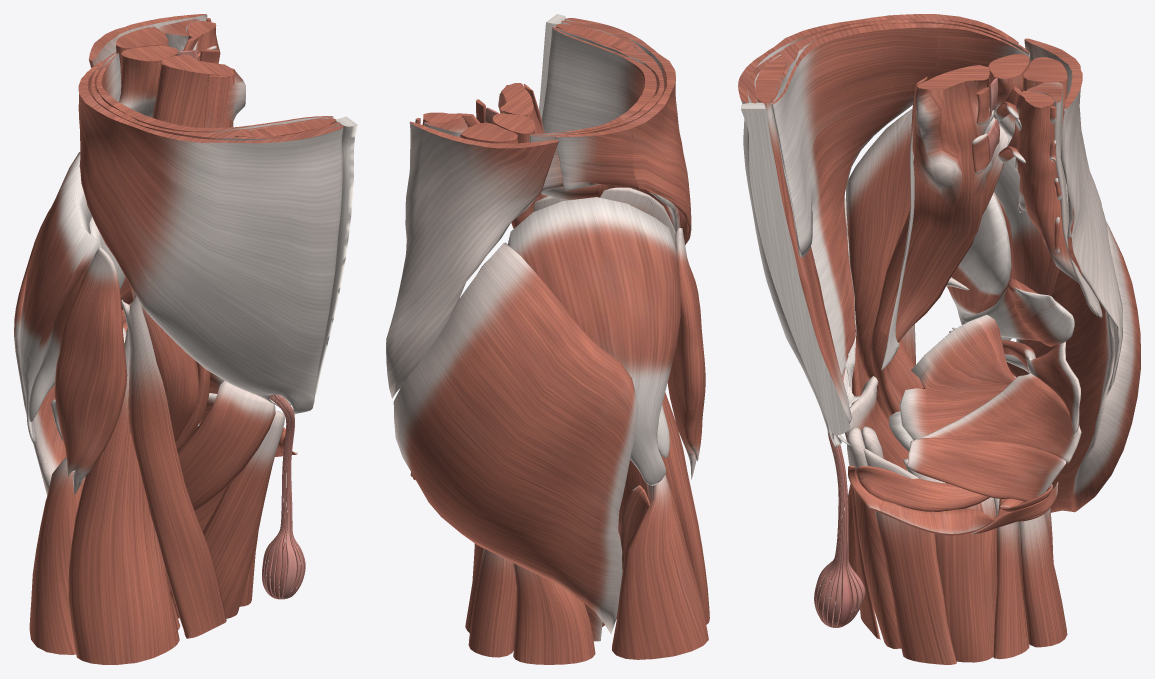
The model's file is open3d-inguinal-canal-muscular-01.glb.
3 views of the same model, side by side, from view 1: azimuth 30°, elevation 25°; view 2: azimuth 150°, elevation 25°; view 3: azimuth 270°, elevation 25° (orthographic). The views are drawn at different scales.
Visible parts, largest first — view 1: O3D_940f0c5cd02731, O3D_d11cecf332819e, O3D_2eb82eda96e7ec, O3D_711ed2559e3960, O3D_02eef0dee2464d, O3D_1c67580720dbc6, O3D_31c82cea7a4480, O3D_9602a2c41e808a, O3D_39cf00250a70b8, O3D_5fdbe307bb6f42, O3D_5d5e73e5efbe74, O3D_f4148cbbf92800 (+13 smaller); view 2: O3D_f4148cbbf92800, O3D_02eef0dee2464d, O3D_b2ed7c7c86ffe7, O3D_9602a2c41e808a, O3D_d1a51c0754bd9e, O3D_66ea27e53af0c0, O3D_940f0c5cd02731, O3D_711ed2559e3960, O3D_a8c936a2bcac7c, O3D_1454194c60631c, O3D_d11cecf332819e, O3D_5c363848e3d6a7 (+11 smaller); view 3: O3D_d1a51c0754bd9e, O3D_39cf00250a70b8, O3D_f4148cbbf92800, O3D_b4340e8b7dcb0b, O3D_5008f44bbb90f5, O3D_b2ed7c7c86ffe7, O3D_702bc628a813e9, O3D_435f47557921c3, O3D_27c284aa7e0c8c, O3D_5d5e73e5efbe74, O3D_5a992a684f77e8, O3D_8a9596a0f5cea2 (+28 smaller).
Part boxes in pixels (x1,y1,x2,y2): O3D_940f0c5cd02731: [79, 95, 343, 414]; O3D_d11cecf332819e: [68, 327, 179, 664]; O3D_2eb82eda96e7ec: [121, 296, 226, 638]; O3D_711ed2559e3960: [54, 247, 127, 495]; O3D_02eef0dee2464d: [19, 152, 100, 443]; O3D_1c67580720dbc6: [177, 381, 275, 511]; O3D_31c82cea7a4480: [170, 410, 285, 618]; O3D_9602a2c41e808a: [29, 457, 85, 654]; O3D_39cf00250a70b8: [152, 54, 245, 127]; O3D_5fdbe307bb6f42: [262, 394, 305, 599]; O3D_5d5e73e5efbe74: [129, 283, 199, 442]; O3D_f4148cbbf92800: [14, 208, 131, 495]; O3D_f4148cbbf92800: [393, 242, 638, 634]; O3D_02eef0dee2464d: [508, 197, 680, 485]; O3D_b2ed7c7c86ffe7: [386, 121, 558, 398]; O3D_9602a2c41e808a: [612, 474, 708, 659]; O3D_d1a51c0754bd9e: [541, 27, 680, 232]; O3D_66ea27e53af0c0: [513, 563, 595, 664]; O3D_940f0c5cd02731: [565, 18, 691, 245]; O3D_711ed2559e3960: [667, 228, 705, 479]; O3D_a8c936a2bcac7c: [554, 124, 639, 190]; O3D_1454194c60631c: [468, 548, 516, 657]; O3D_d11cecf332819e: [618, 392, 709, 624]; O3D_5c363848e3d6a7: [554, 20, 687, 243]; O3D_d1a51c0754bd9e: [772, 23, 943, 385]; O3D_39cf00250a70b8: [877, 64, 994, 342]; O3D_f4148cbbf92800: [1016, 221, 1140, 512]; O3D_b4340e8b7dcb0b: [899, 314, 1029, 440]; O3D_5008f44bbb90f5: [741, 102, 849, 435]; O3D_b2ed7c7c86ffe7: [1024, 38, 1122, 396]; O3D_702bc628a813e9: [863, 448, 956, 664]; O3D_435f47557921c3: [902, 458, 997, 662]; O3D_27c284aa7e0c8c: [907, 437, 1066, 501]; O3D_5d5e73e5efbe74: [846, 109, 923, 396]; O3D_5a992a684f77e8: [920, 373, 1081, 463]; O3D_8a9596a0f5cea2: [1014, 91, 1078, 282].
Bounding box in the file's own units: 0.1679 × 0.3384 × 0.2184.
7 materials, 7 textured.
